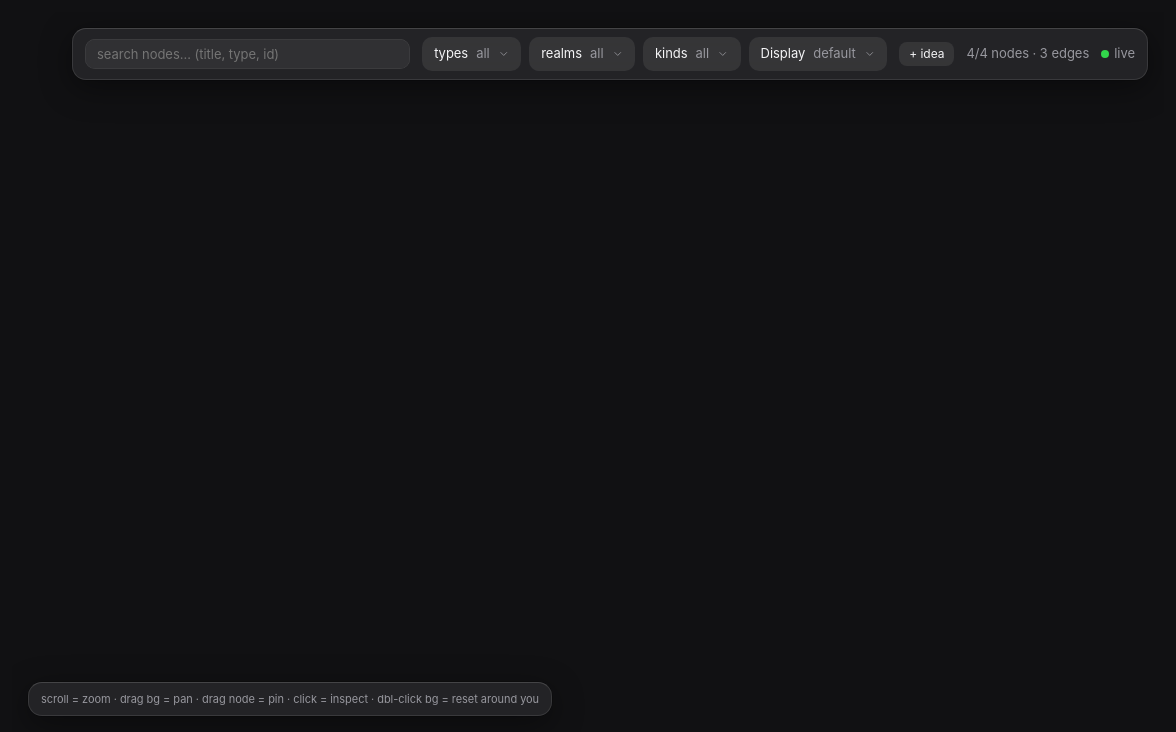
Scenario: Map › hides done nodes only when asked to
Check: the text "4/4 nodes · 3 edges" is shown, box [966,44,1089,64]
Step 1. Click the button "Display default" → (818, 54), box [749,37,887,70]
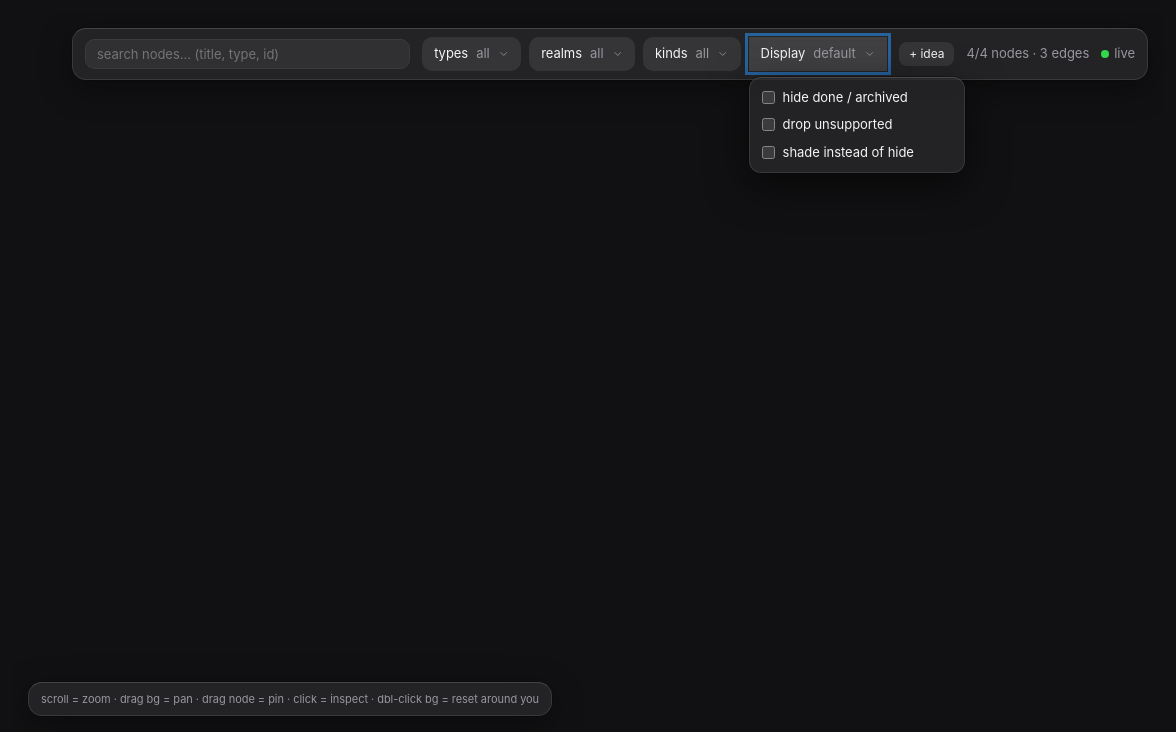
Step 2. Click the checkbox labelled "hide done / archived" → (768, 97), box [762,91,775,104]
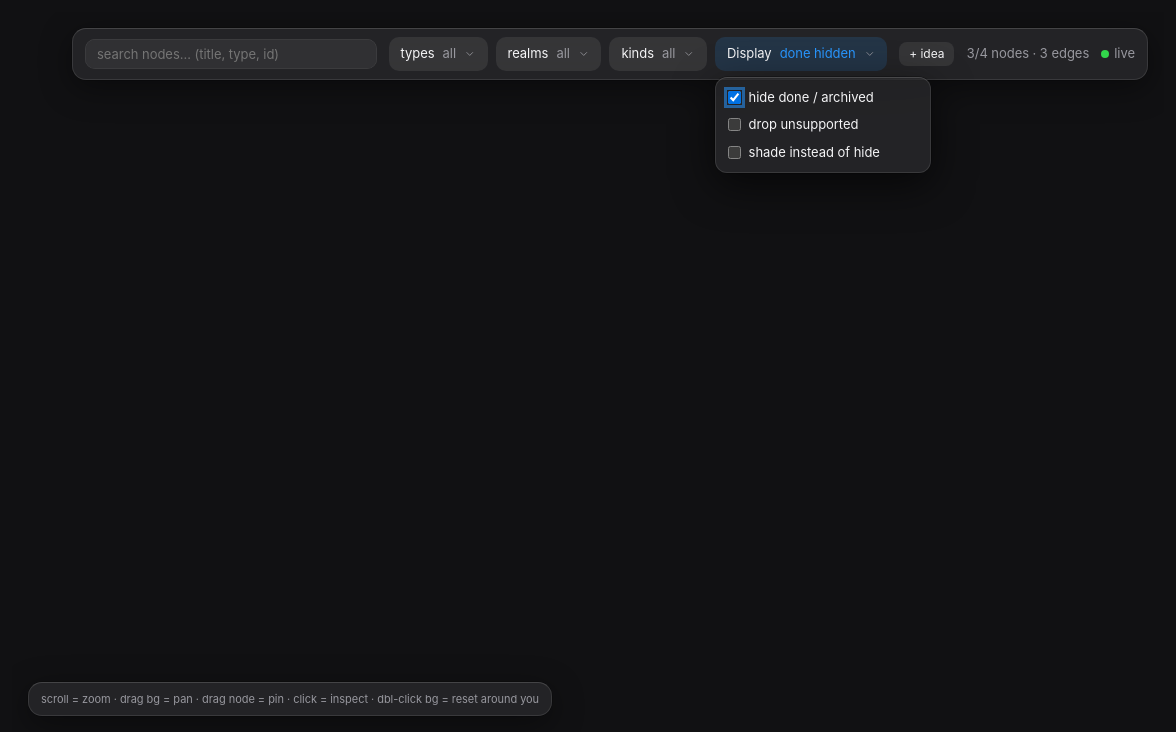
Check: the text "3/4 nodes · 3 edges" is shown, box [966,44,1089,64]
